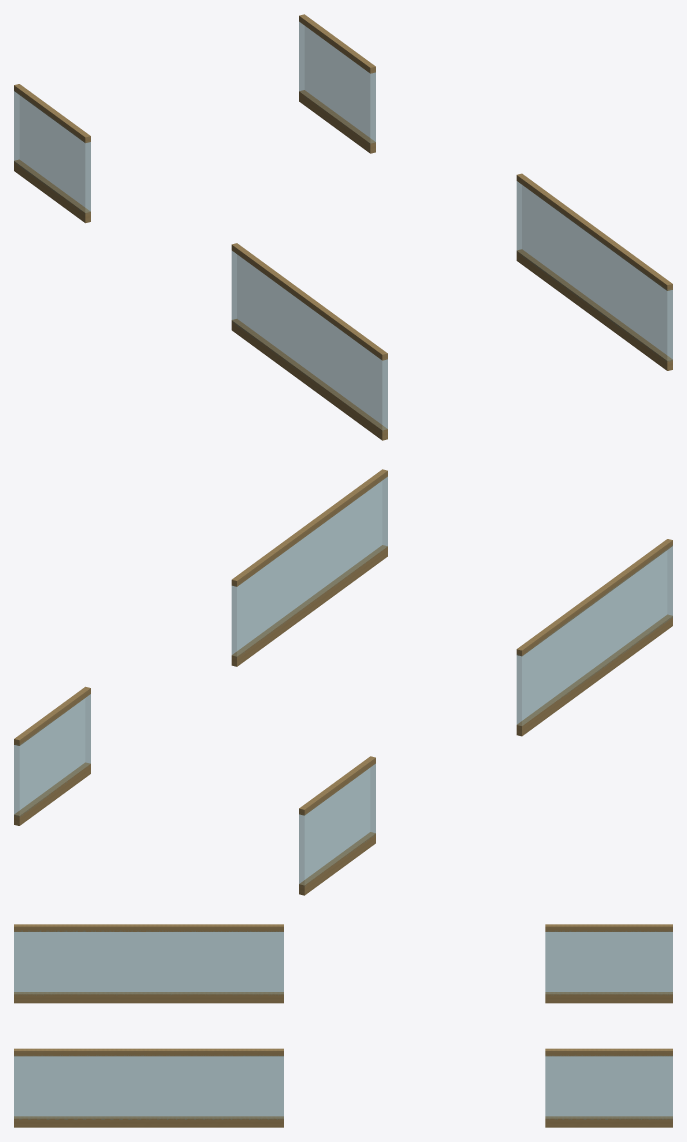
Rendered from D04_PORT_FORWARD_HOMES_THIRD_GUARDS_r001.glb.
3 renders of one model, top to bottom at view 1: azimuth 30°, elevation 25°; view 2: azimuth 150°, elevation 25°; view 3: azimuth 270°, elevation 25°, orthographic. The views are drawn at different scales.
Parts seen in each view (by area): view 1: D04H3_Guard_1_1, D04H3_Guard_4_1, D04H3_Guard_4_0, D04H3_Guard_1_0, D04H3_Guard_2_1, D04H3_Guard_5_1, D04H3_Guard_6_1, D04H3_Guard_3_1, D04H3_Guard_5_0, D04H3_Guard_2_0, D04H3_Guard_3_0, D04H3_Guard_6_0; view 2: D04H3_Guard_4_1, D04H3_Guard_1_1, D04H3_Guard_1_0, D04H3_Guard_4_0, D04H3_Guard_5_1, D04H3_Guard_2_1, D04H3_Guard_3_1, D04H3_Guard_6_1, D04H3_Guard_2_0, D04H3_Guard_5_0, D04H3_Guard_6_0, D04H3_Guard_3_0; view 3: D04H3_Guard_1_1, D04H3_Guard_4_1, D04H3_Guard_1_0, D04H3_Guard_4_0, D04H3_Guard_2_1, D04H3_Guard_5_1, D04H3_Guard_3_1, D04H3_Guard_6_1, D04H3_Guard_2_0, D04H3_Guard_5_0, D04H3_Guard_3_0, D04H3_Guard_6_0.
Boxes of the visible parts, left/top/right/bottom form: D04H3_Guard_1_1: left=516, top=181, right=672, bottom=361; D04H3_Guard_4_1: left=231, top=251, right=387, bottom=431; D04H3_Guard_4_0: left=14, top=90, right=90, bottom=212; D04H3_Guard_1_0: left=299, top=21, right=375, bottom=144; D04H3_Guard_2_1: left=516, top=249, right=672, bottom=370; D04H3_Guard_5_1: left=231, top=319, right=387, bottom=440; D04H3_Guard_6_1: left=231, top=243, right=387, bottom=360; D04H3_Guard_3_1: left=516, top=173, right=672, bottom=290; D04H3_Guard_5_0: left=14, top=159, right=90, bottom=223; D04H3_Guard_2_0: left=299, top=90, right=375, bottom=153; D04H3_Guard_3_0: left=299, top=14, right=375, bottom=73; D04H3_Guard_6_0: left=14, top=84, right=90, bottom=143; D04H3_Guard_4_1: left=516, top=545, right=672, bottom=725; D04H3_Guard_1_1: left=231, top=477, right=387, bottom=656; D04H3_Guard_1_0: left=14, top=694, right=90, bottom=816; D04H3_Guard_4_0: left=299, top=763, right=375, bottom=885; D04H3_Guard_5_1: left=516, top=614, right=672, bottom=736; D04H3_Guard_2_1: left=231, top=545, right=387, bottom=666; D04H3_Guard_3_1: left=231, top=469, right=387, bottom=586; D04H3_Guard_6_1: left=516, top=539, right=672, bottom=656; D04H3_Guard_2_0: left=14, top=762, right=90, bottom=825; D04H3_Guard_5_0: left=299, top=832, right=375, bottom=895; D04H3_Guard_6_0: left=299, top=756, right=375, bottom=815; D04H3_Guard_3_0: left=14, top=686, right=90, bottom=745; D04H3_Guard_1_1: left=14, top=1055, right=283, bottom=1119; D04H3_Guard_4_1: left=14, top=931, right=283, bottom=995; D04H3_Guard_1_0: left=545, top=1055, right=672, bottom=1119; D04H3_Guard_4_0: left=545, top=931, right=672, bottom=995; D04H3_Guard_2_1: left=14, top=1116, right=283, bottom=1127; D04H3_Guard_5_1: left=14, top=992, right=283, bottom=1003; D04H3_Guard_3_1: left=14, top=1048, right=283, bottom=1056; D04H3_Guard_6_1: left=14, top=924, right=283, bottom=931; D04H3_Guard_2_0: left=545, top=1116, right=672, bottom=1127; D04H3_Guard_5_0: left=545, top=992, right=672, bottom=1003; D04H3_Guard_3_0: left=545, top=1048, right=672, bottom=1056; D04H3_Guard_6_0: left=545, top=924, right=672, bottom=931.
Size of the model in its own units: 4.18 by 1.18 by 9.18.
2 materials, 1 textured.
